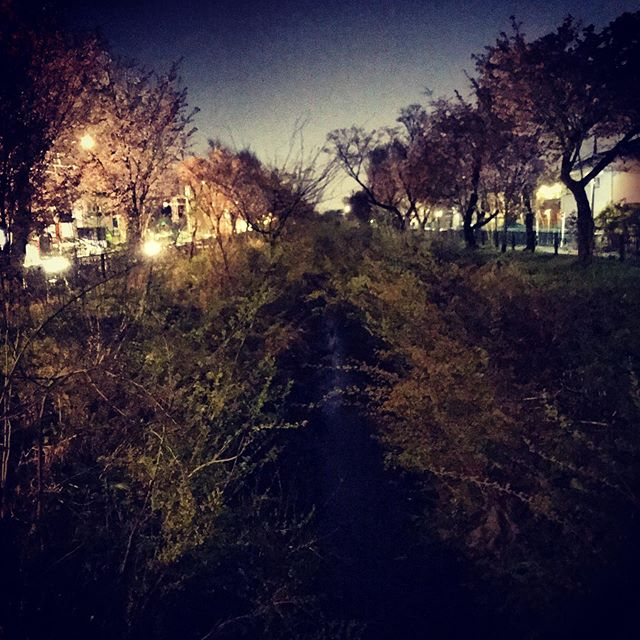sky: (130, 6, 489, 142)
tree: (485, 1, 634, 280), (1, 1, 92, 268), (91, 22, 193, 248), (401, 90, 521, 269), (186, 136, 334, 272), (334, 127, 416, 255)
vegetation: (1, 226, 332, 640), (345, 244, 640, 640)
